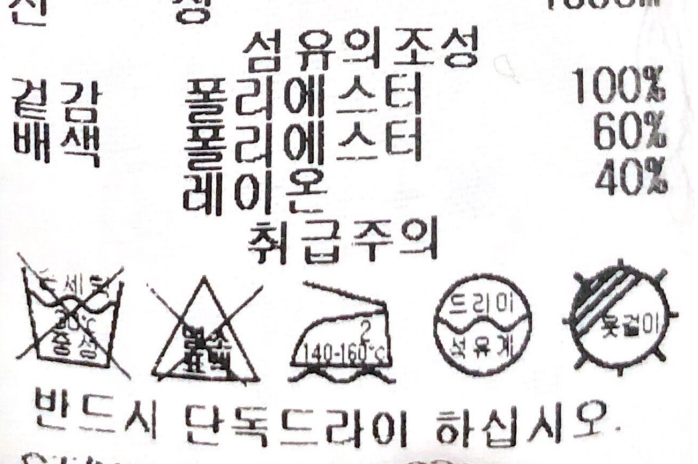KR_dry_clean_petroleum: (424, 265, 543, 381)
KR_hand_wash_30_neutral: (9, 251, 133, 386)
KR_hang_dry_in_shade: (558, 253, 683, 381)
KR_iron_medium_temp_with_cloth: (282, 277, 400, 392)
KR_no_chlorine_bleach: (134, 268, 268, 390)
